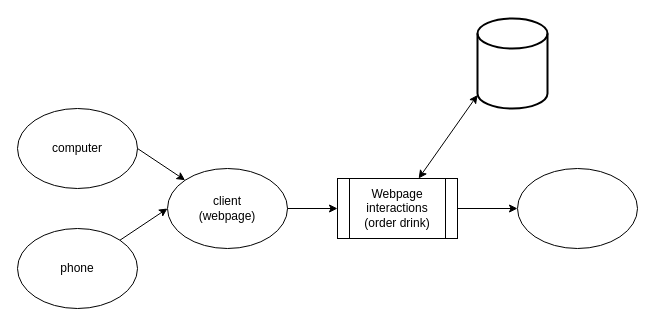
Some shapes in this 655 by 326 pixel diagram are drawn without their labels. The shapes that lost their labels are listed below. From the top down, each one's centre as x and y in pixels, then its label:
[512,63]: Recipe database
[577,208]: motor actions
